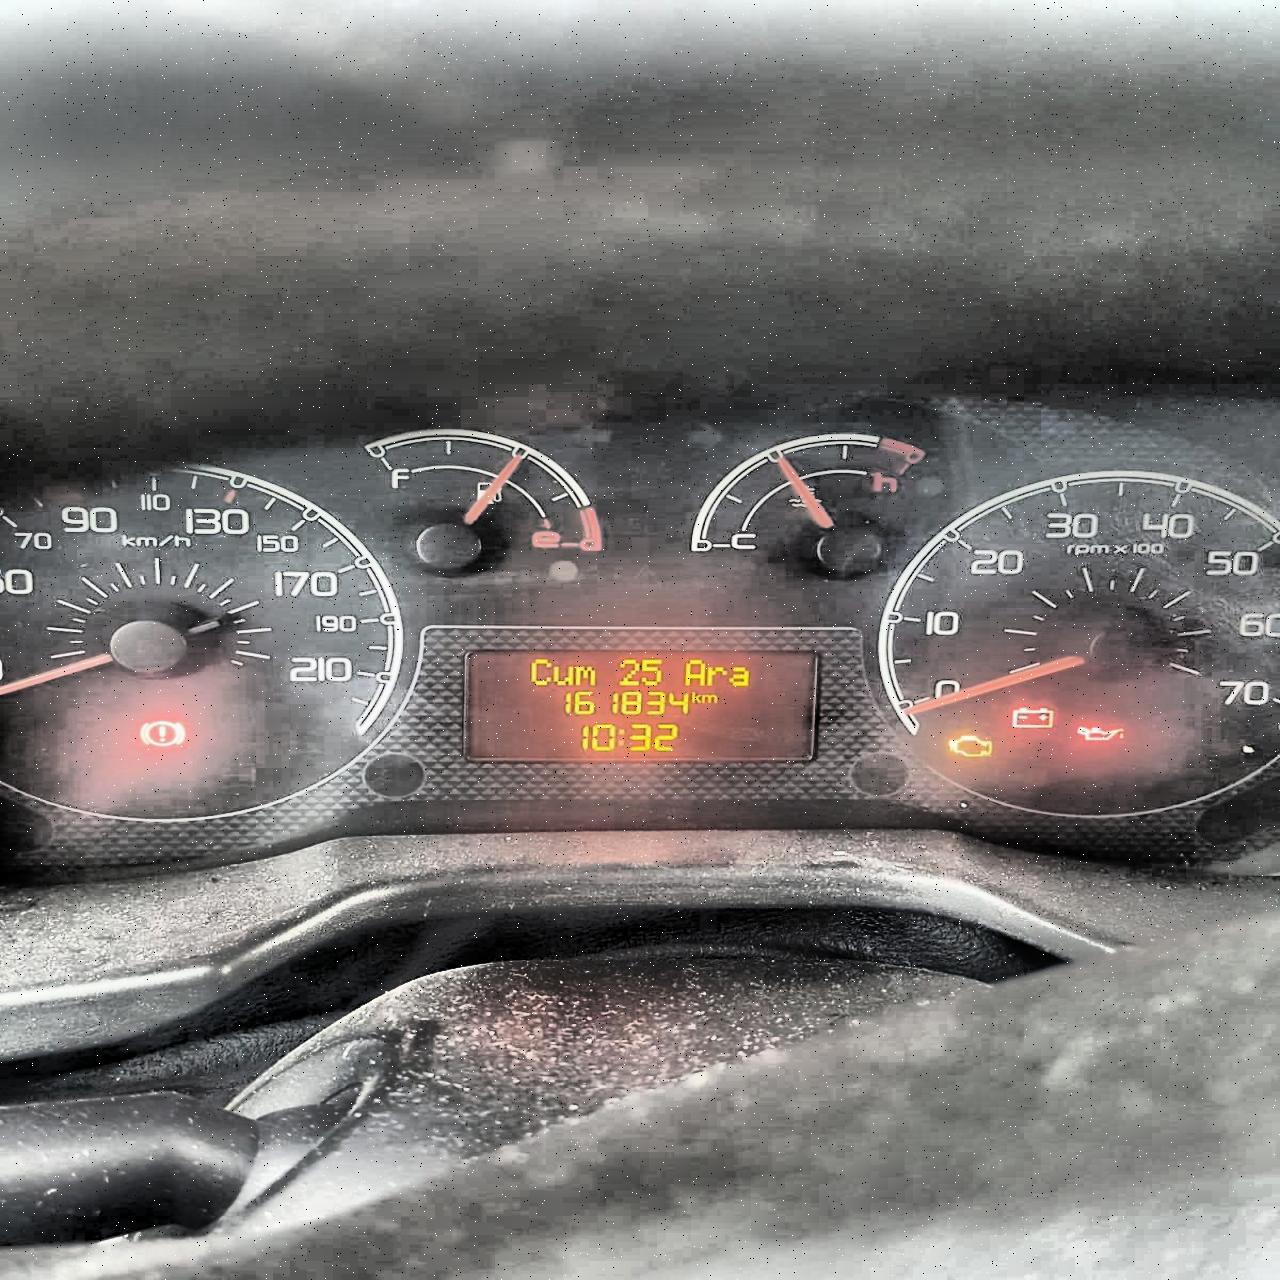0: (592, 722, 612, 751)
1: (560, 689, 572, 713), (610, 690, 621, 714), (579, 723, 587, 751)
2: (654, 722, 678, 751), (618, 658, 639, 687)
3: (627, 723, 649, 751), (646, 689, 662, 715)
4: (667, 692, 688, 714)
5: (641, 658, 661, 686)
6: (573, 688, 593, 714)
8: (621, 689, 642, 715)
X: (682, 659, 707, 686), (527, 658, 550, 685), (551, 663, 573, 685), (728, 665, 750, 686), (573, 665, 594, 686), (707, 665, 727, 686), (700, 693, 717, 704), (617, 726, 625, 749), (692, 692, 701, 702)
odometer: (459, 644, 822, 768)
